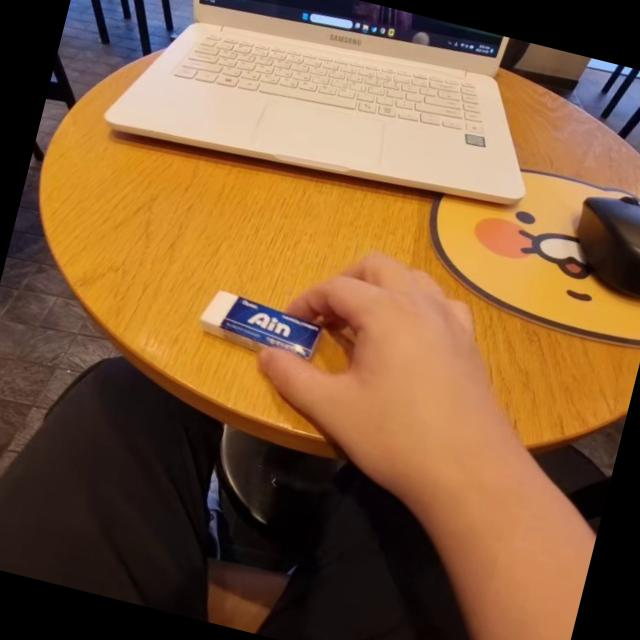eraser: (188, 276, 331, 364)
grab_eraser: (164, 184, 546, 536)
hand: (248, 241, 508, 478)
mouse: (556, 176, 640, 315)
